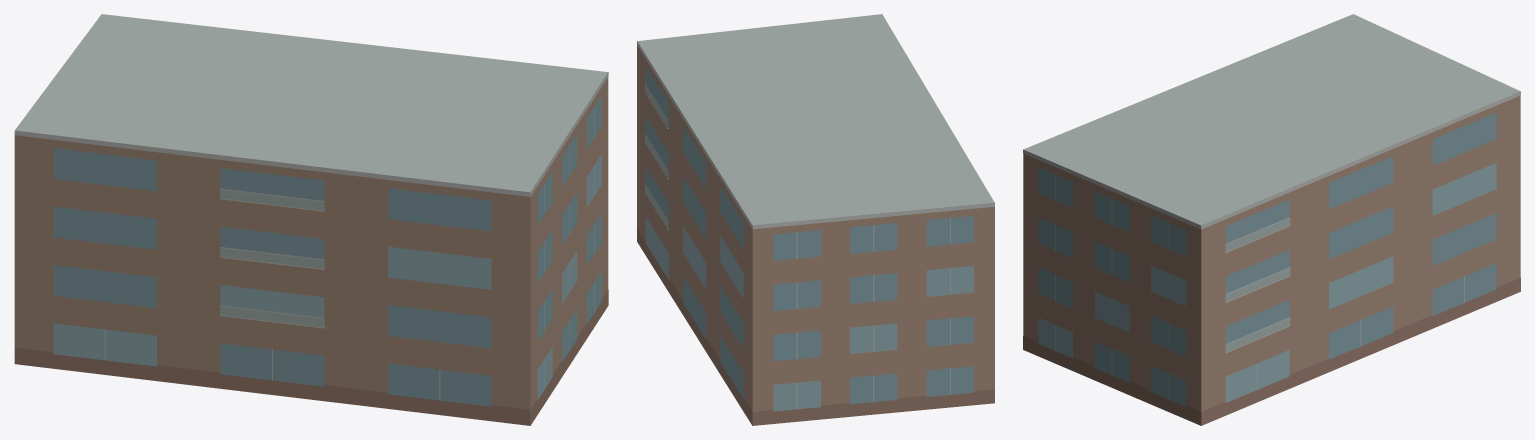
File: survey-upis-32566948.glb
3 views of the same model, side by side, from view 1: azimuth 30°, elevation 25°; view 2: azimuth 150°, elevation 25°; view 3: azimuth 270°, elevation 25° (orthographic). The views are drawn at different scales.
Parts seen in each view (by area): view 1: survey-upis-32566948.tmp; view 2: survey-upis-32566948.tmp; view 3: survey-upis-32566948.tmp.
Boxes of the visible parts, <box> form: survey-upis-32566948.tmp: <box>14,14,608,425</box>; survey-upis-32566948.tmp: <box>637,14,994,425</box>; survey-upis-32566948.tmp: <box>1023,14,1520,425</box>.
Bounding box in the file's own units: 27.62 × 12.2 × 27.46.
